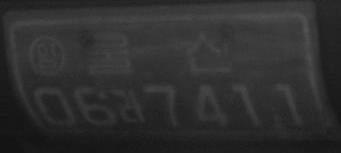0: (31, 85, 76, 130)
1: (229, 83, 266, 129), (269, 82, 304, 127)
4: (196, 83, 229, 128)
6: (76, 85, 117, 127)
7: (148, 83, 181, 130)
라: (117, 86, 146, 125)
영: (28, 36, 66, 78)
울산_D: (85, 28, 231, 75)
